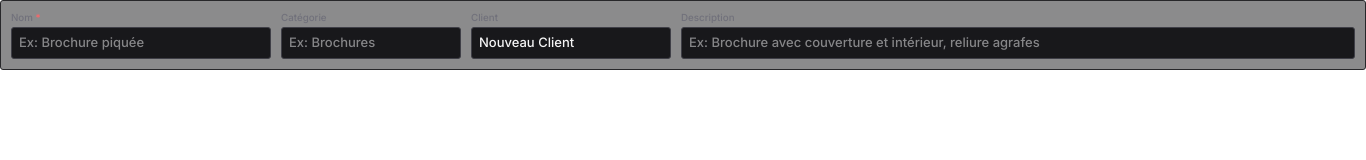
Test: JcfTemplateHeaderForm › session learning › adds new client to suggestions on blur
// Focus to reopen dropdown
Focus the field labelled "Client" at x=571, y=43, box [471,27,671,58]
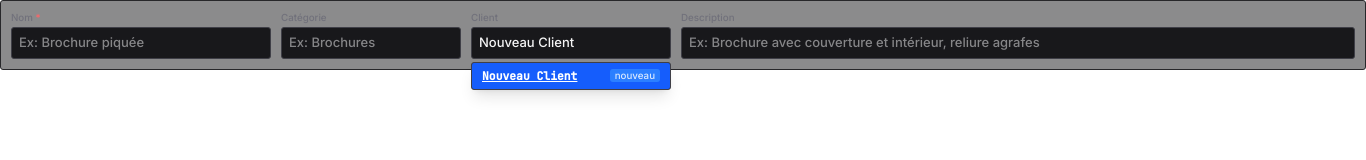
Check: the text "Nouveau Client" is shown, box [482,68,577,82]
